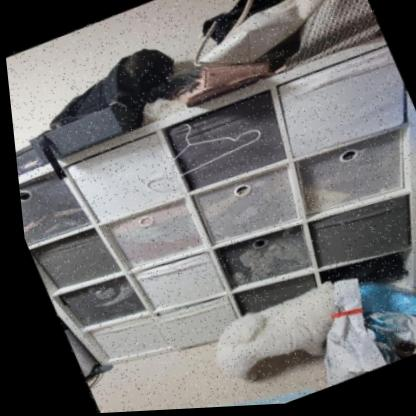Shelf: (4, 35, 416, 414)
